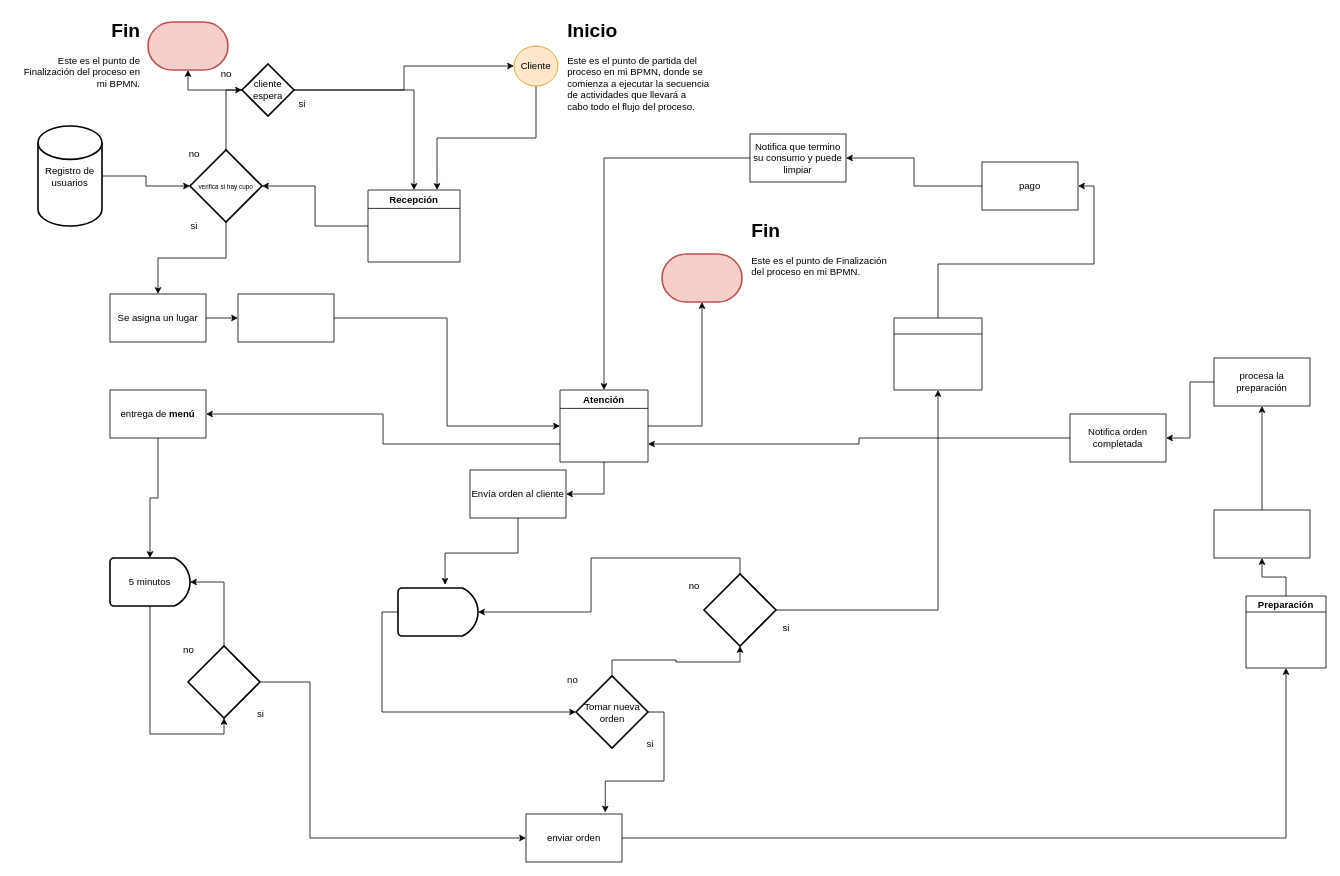
Some shapes in this 1340 by 876 pixel diagram are drawn without their labels. The box of each missing label's shape, as (x1, y1, x2, y2) in pixels:
20 minutos: (397, 587, 478, 636)
Caja: (893, 317, 982, 390)
Cliente toma asiento: (237, 293, 334, 342)
el cliente termina su consumo: (703, 573, 776, 646)
Limpeza de area asignada: (661, 253, 742, 302)
Reúne insumos: (1213, 509, 1310, 558)
Termina proceso: (147, 21, 228, 70)
Tomar orden: (187, 645, 260, 718)
